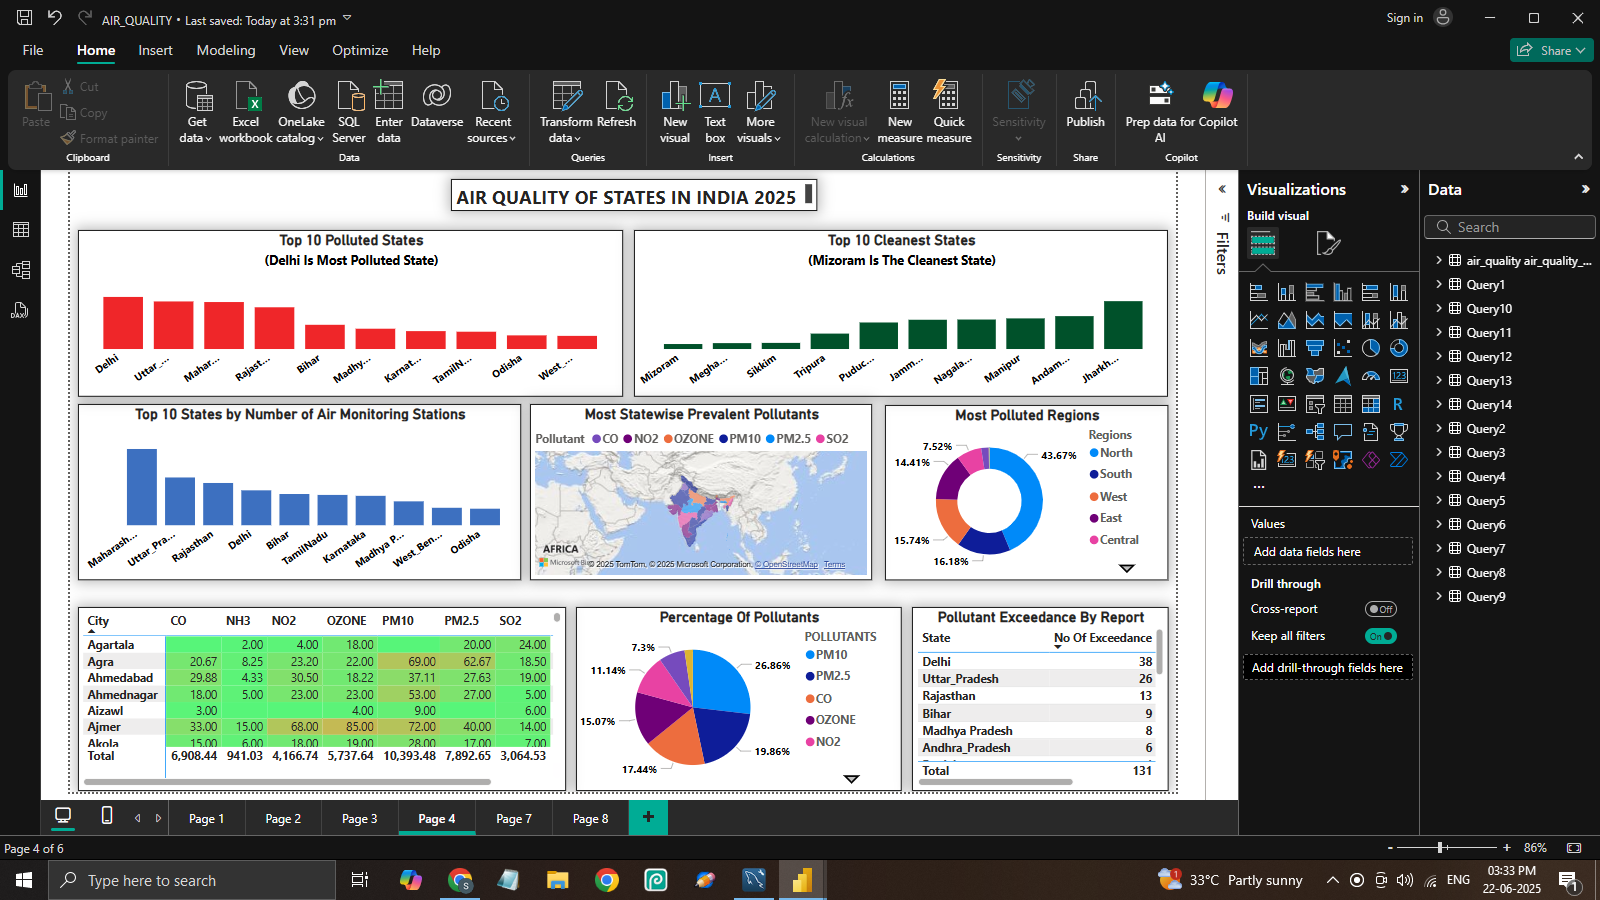

The page's visual inventory and layout, read from the dashboard file:
{"tool":"powerbi","page":{"name":"Page 4","canvas":[1280,720],"ordinal":3},"visuals":[{"type":"pieChart","title":"Percentage Of Pollutants","fields":{"Y":["Sum(air_quality air_quality_2025.pollutant_avg)"],"Category":["air_quality air_quality_2025.pollutant_id"]},"box":[586,506.3,376.5,213.3],"z":0},{"type":"textbox","box":[441,10.4,423.7,37],"z":1000},{"type":"pivotTable","fields":{"Rows":["Query7.city"],"Values":["Sum(Query7.average_val)"],"Columns":["Query7.pollutant_id"]},"box":[9,506.3,565.5,213.3],"z":2000},{"type":"columnChart","title":"Top 10 States by Number of Air Monitoring Stations","fields":{"Y":["Sum(Query5.count(distinct(station)))"],"Category":["Query5.state"]},"box":[9,271.2,512.8,204.3],"z":3000},{"type":"columnChart","title":"Top 10 Polluted States","fields":{"Category":["air_quality air_quality_2025.state"],"Y":["Sum(air_quality air_quality_2025.pollutant_avg)"]},"box":[9,69.4,631,192.8],"z":4000},{"type":"donutChart","title":"Most Polluted Regions","fields":{"Category":["air_quality air_quality_2025.region"],"Y":["Sum(air_quality air_quality_2025.pollutant_avg)"]},"box":[943.3,272.4,327.7,203.1],"z":5000},{"type":"tableEx","title":"Pollutant Exceedance  By Report","fields":{"Values":["Query10.state","Sum(Query10.exceedance)","CountNonNull(Query10.pollutant_id)"]},"box":[974.1,506.3,296.9,213.3],"z":6000},{"type":"columnChart","title":"Top 10 Cleanest States","fields":{"Category":["air_quality air_quality_2025.state"],"Y":["Sum(air_quality air_quality_2025.pollutant_avg)"]},"box":[652.9,69.4,618.2,192.8],"z":7000},{"type":"filledMap","title":"Most Statewise Prevalent Pollutants","fields":{"Category":["Query14.state"],"Series":["Query14.pollutant_id"]},"box":[532,271.2,395.8,204.3],"z":8000}]}

Visuals, with their boxes on the page's 1280x720 design canvas (x1, y1, x2, y2). These are canvas units, not pixel positions in the 1600x900 screenshot, which may show the page scaled, cropped or inside an application window:
"Percentage Of Pollutants" pieChart: rect(586, 506, 962, 720)
textbox: rect(441, 10, 865, 47)
pivotTable - Query7.city x Sum(Query7.average_val): rect(9, 506, 574, 720)
"Top 10 States by Number of Air Monitoring Stations" columnChart: rect(9, 271, 522, 476)
"Top 10 Polluted States" columnChart: rect(9, 69, 640, 262)
"Most Polluted Regions" donutChart: rect(943, 272, 1271, 476)
"Pollutant Exceedance  By Report" tableEx: rect(974, 506, 1271, 720)
"Top 10 Cleanest States" columnChart: rect(653, 69, 1271, 262)
"Most Statewise Prevalent Pollutants" filledMap: rect(532, 271, 928, 476)
